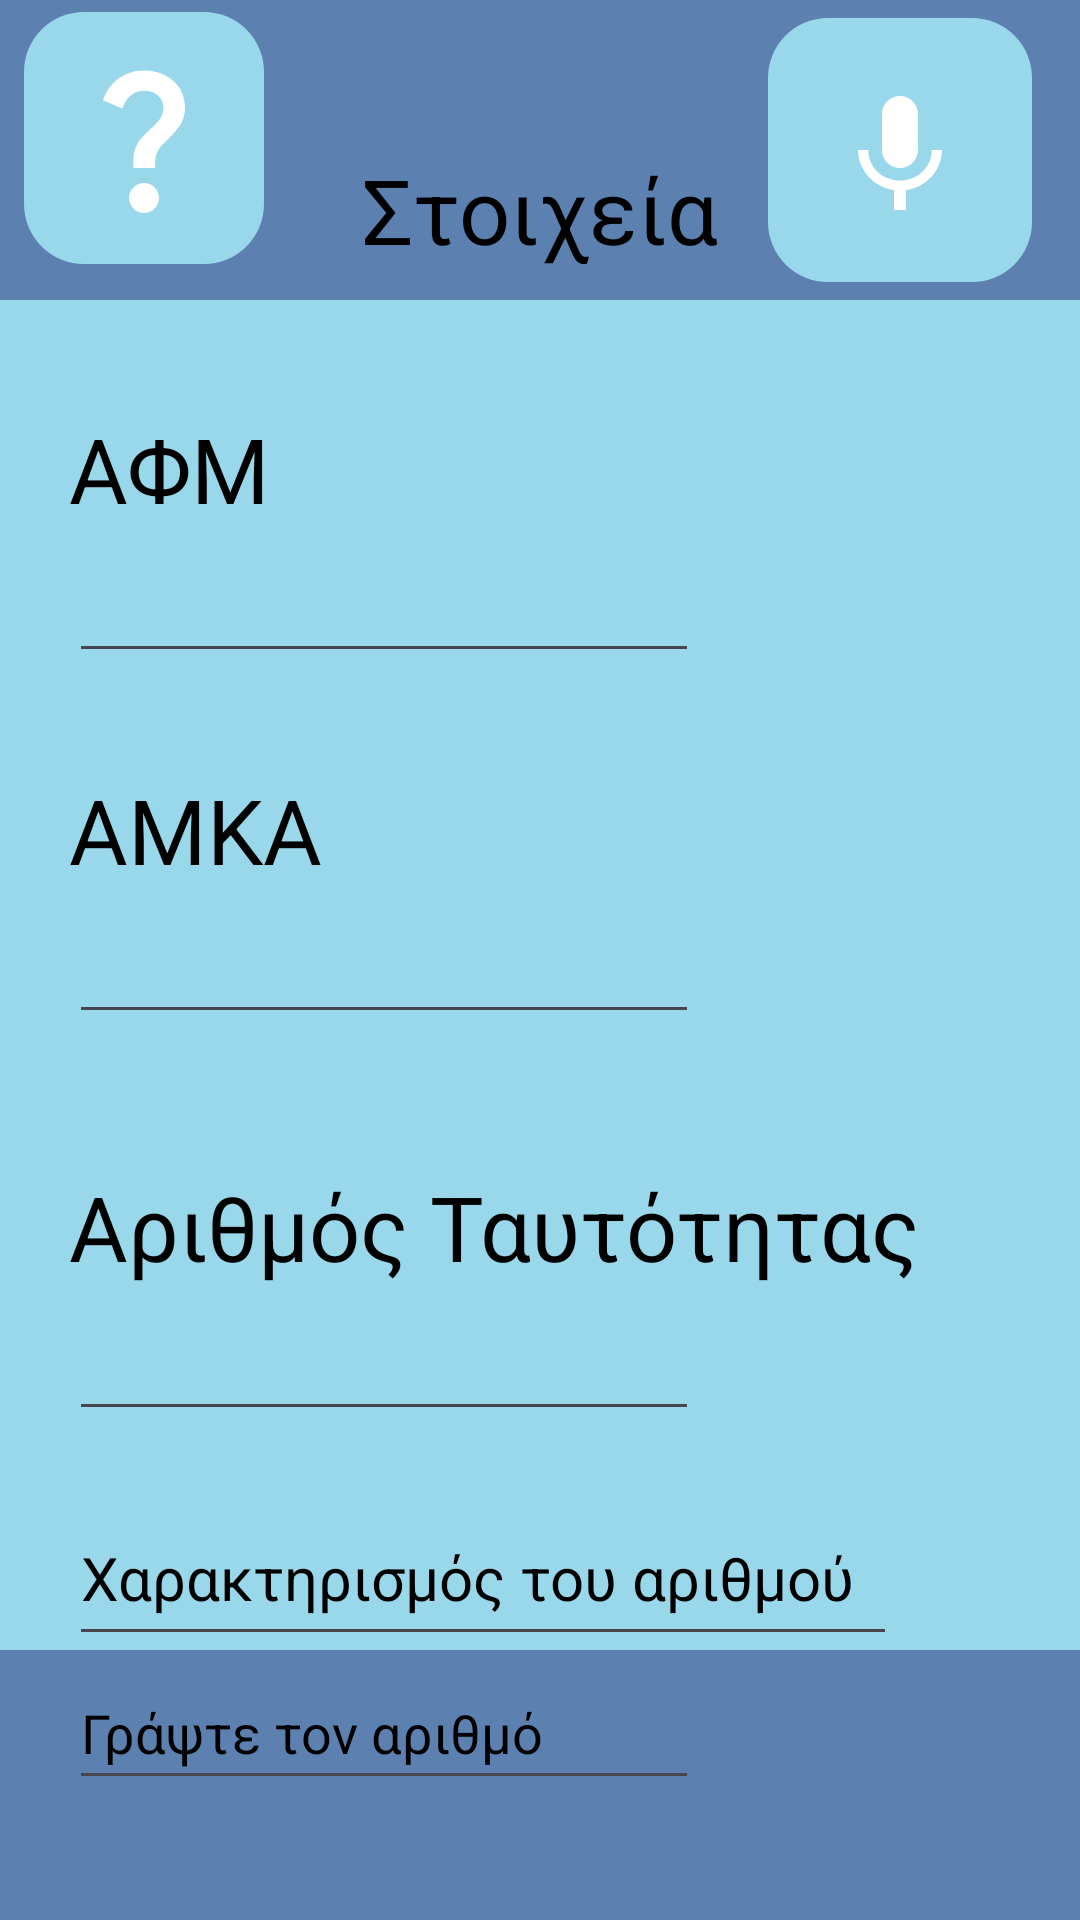

Icons on this 1080w x 1920h Android screen, each with its box as bbox=(x1, y1, x2, y2):
keyboard voice bigger: bbox=(768, 18, 1032, 282)
question mark: bbox=(24, 12, 264, 264)
